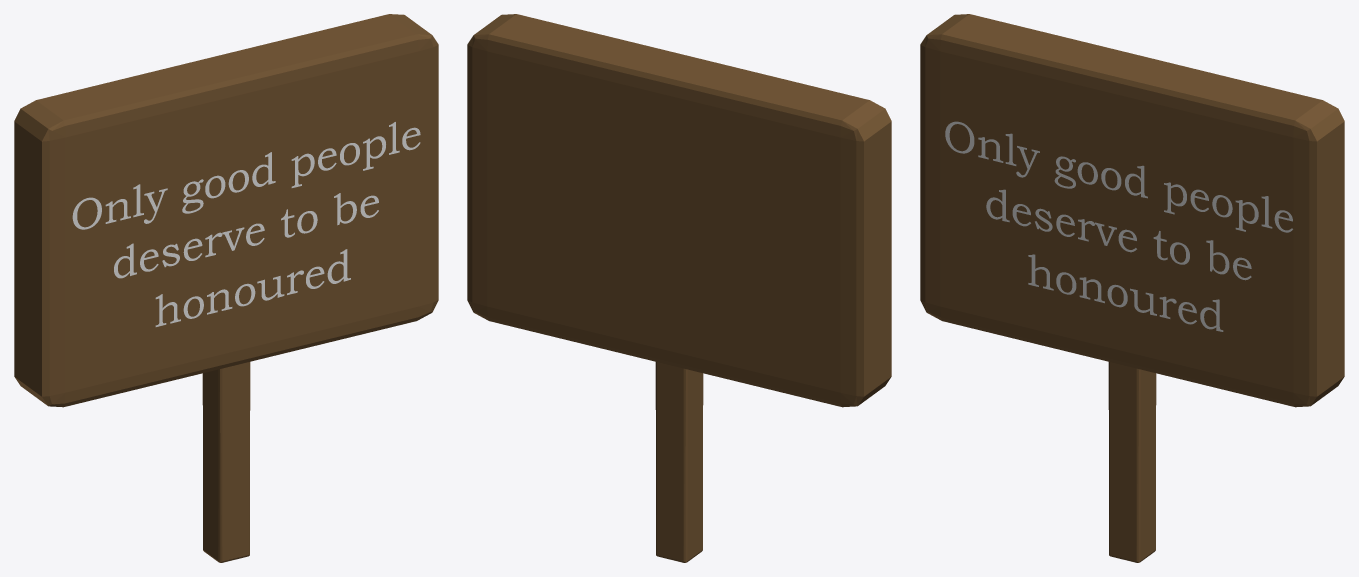
Rendered from gravesign.fbx.
3 views of the same model, side by side, from view 1: azimuth 30°, elevation 25°; view 2: azimuth 150°, elevation 25°; view 3: azimuth 330°, elevation 25° (orthographic).
Visible parts, largest first — view 1: Border, Text; view 2: Border; view 3: Border, Text.
Part boxes in pixels (bbox=[...]): Border: bbox=[14, 14, 438, 562]; Text: bbox=[72, 122, 420, 326]; Border: bbox=[467, 14, 891, 562]; Border: bbox=[920, 14, 1344, 562]; Text: bbox=[945, 121, 1292, 331].
Bounding box in the file's own units: 2 × 2.34 × 0.2822.
